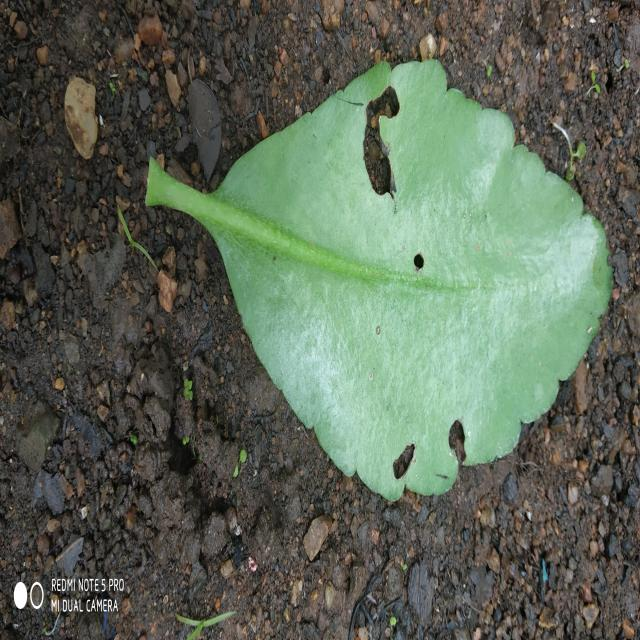defectedspinach: (318, 62, 481, 290), (344, 368, 502, 500)
spinach: (148, 60, 611, 500)
